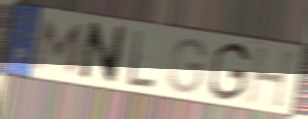G: (206, 40, 253, 103), (166, 36, 209, 95)
H: (244, 45, 300, 111)
L: (126, 28, 157, 91)
M: (31, 16, 88, 76)
N: (76, 19, 130, 86)
